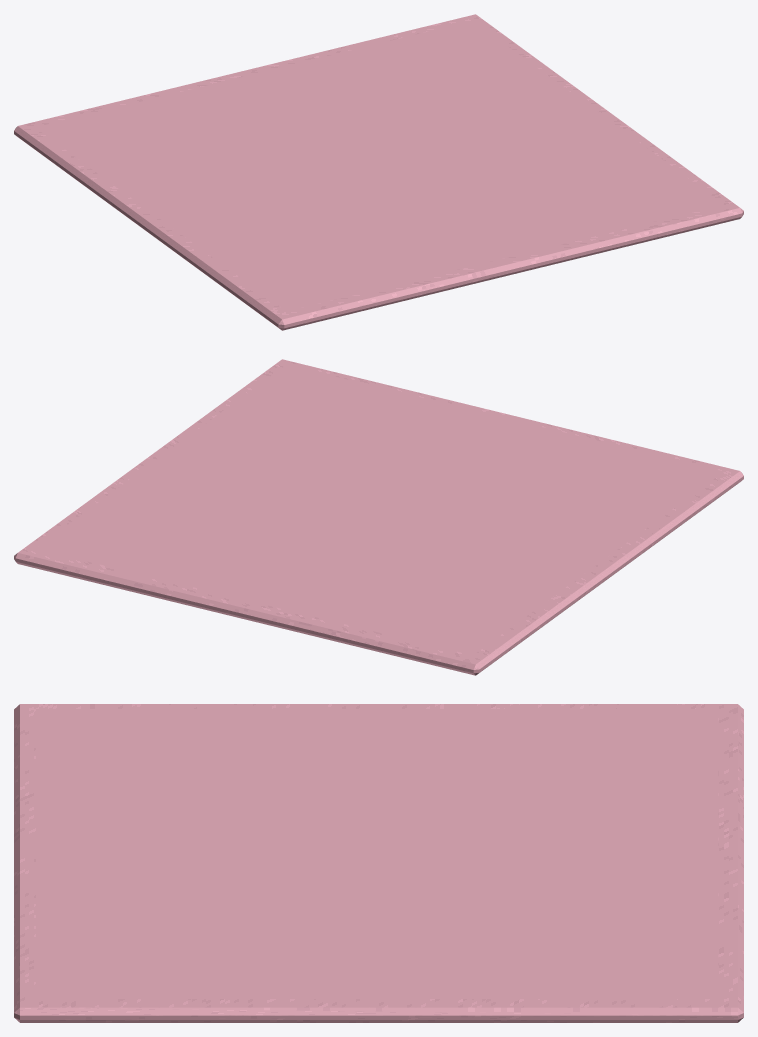
The model's file is lab_postit_migo.glb.
3 views of the same model, one above another, from view 1: azimuth 30°, elevation 25°; view 2: azimuth 150°, elevation 25°; view 3: azimuth 270°, elevation 25° (orthographic). The views are drawn at different scales.
Parts seen in each view (by area): view 1: block_printed face, block_paper or card stock; view 2: block_printed face, block_paper or card stock; view 3: block_printed face, block_paper or card stock.
Boxes of the visible parts, x1,y1,x2,y2 form: block_printed face: (35, 20, 723, 311); block_paper or card stock: (14, 14, 743, 330); block_printed face: (35, 364, 723, 655); block_paper or card stock: (14, 359, 743, 675); block_printed face: (36, 709, 718, 998); block_paper or card stock: (14, 704, 743, 1022).
Size of the model in its own units: 0.076 by 0.00195 by 0.076.
1 material, 1 textured.
